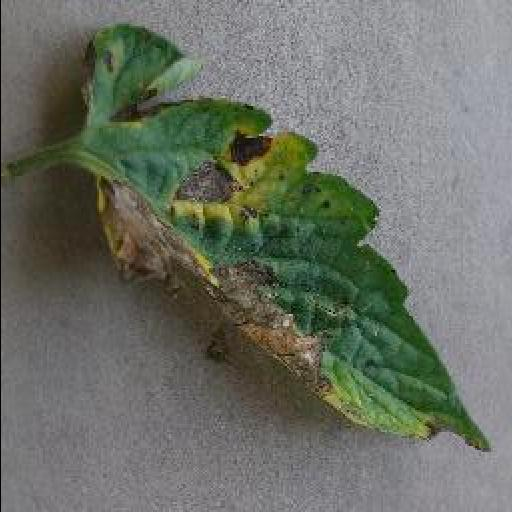disease_tomato: (79, 24, 489, 454)
